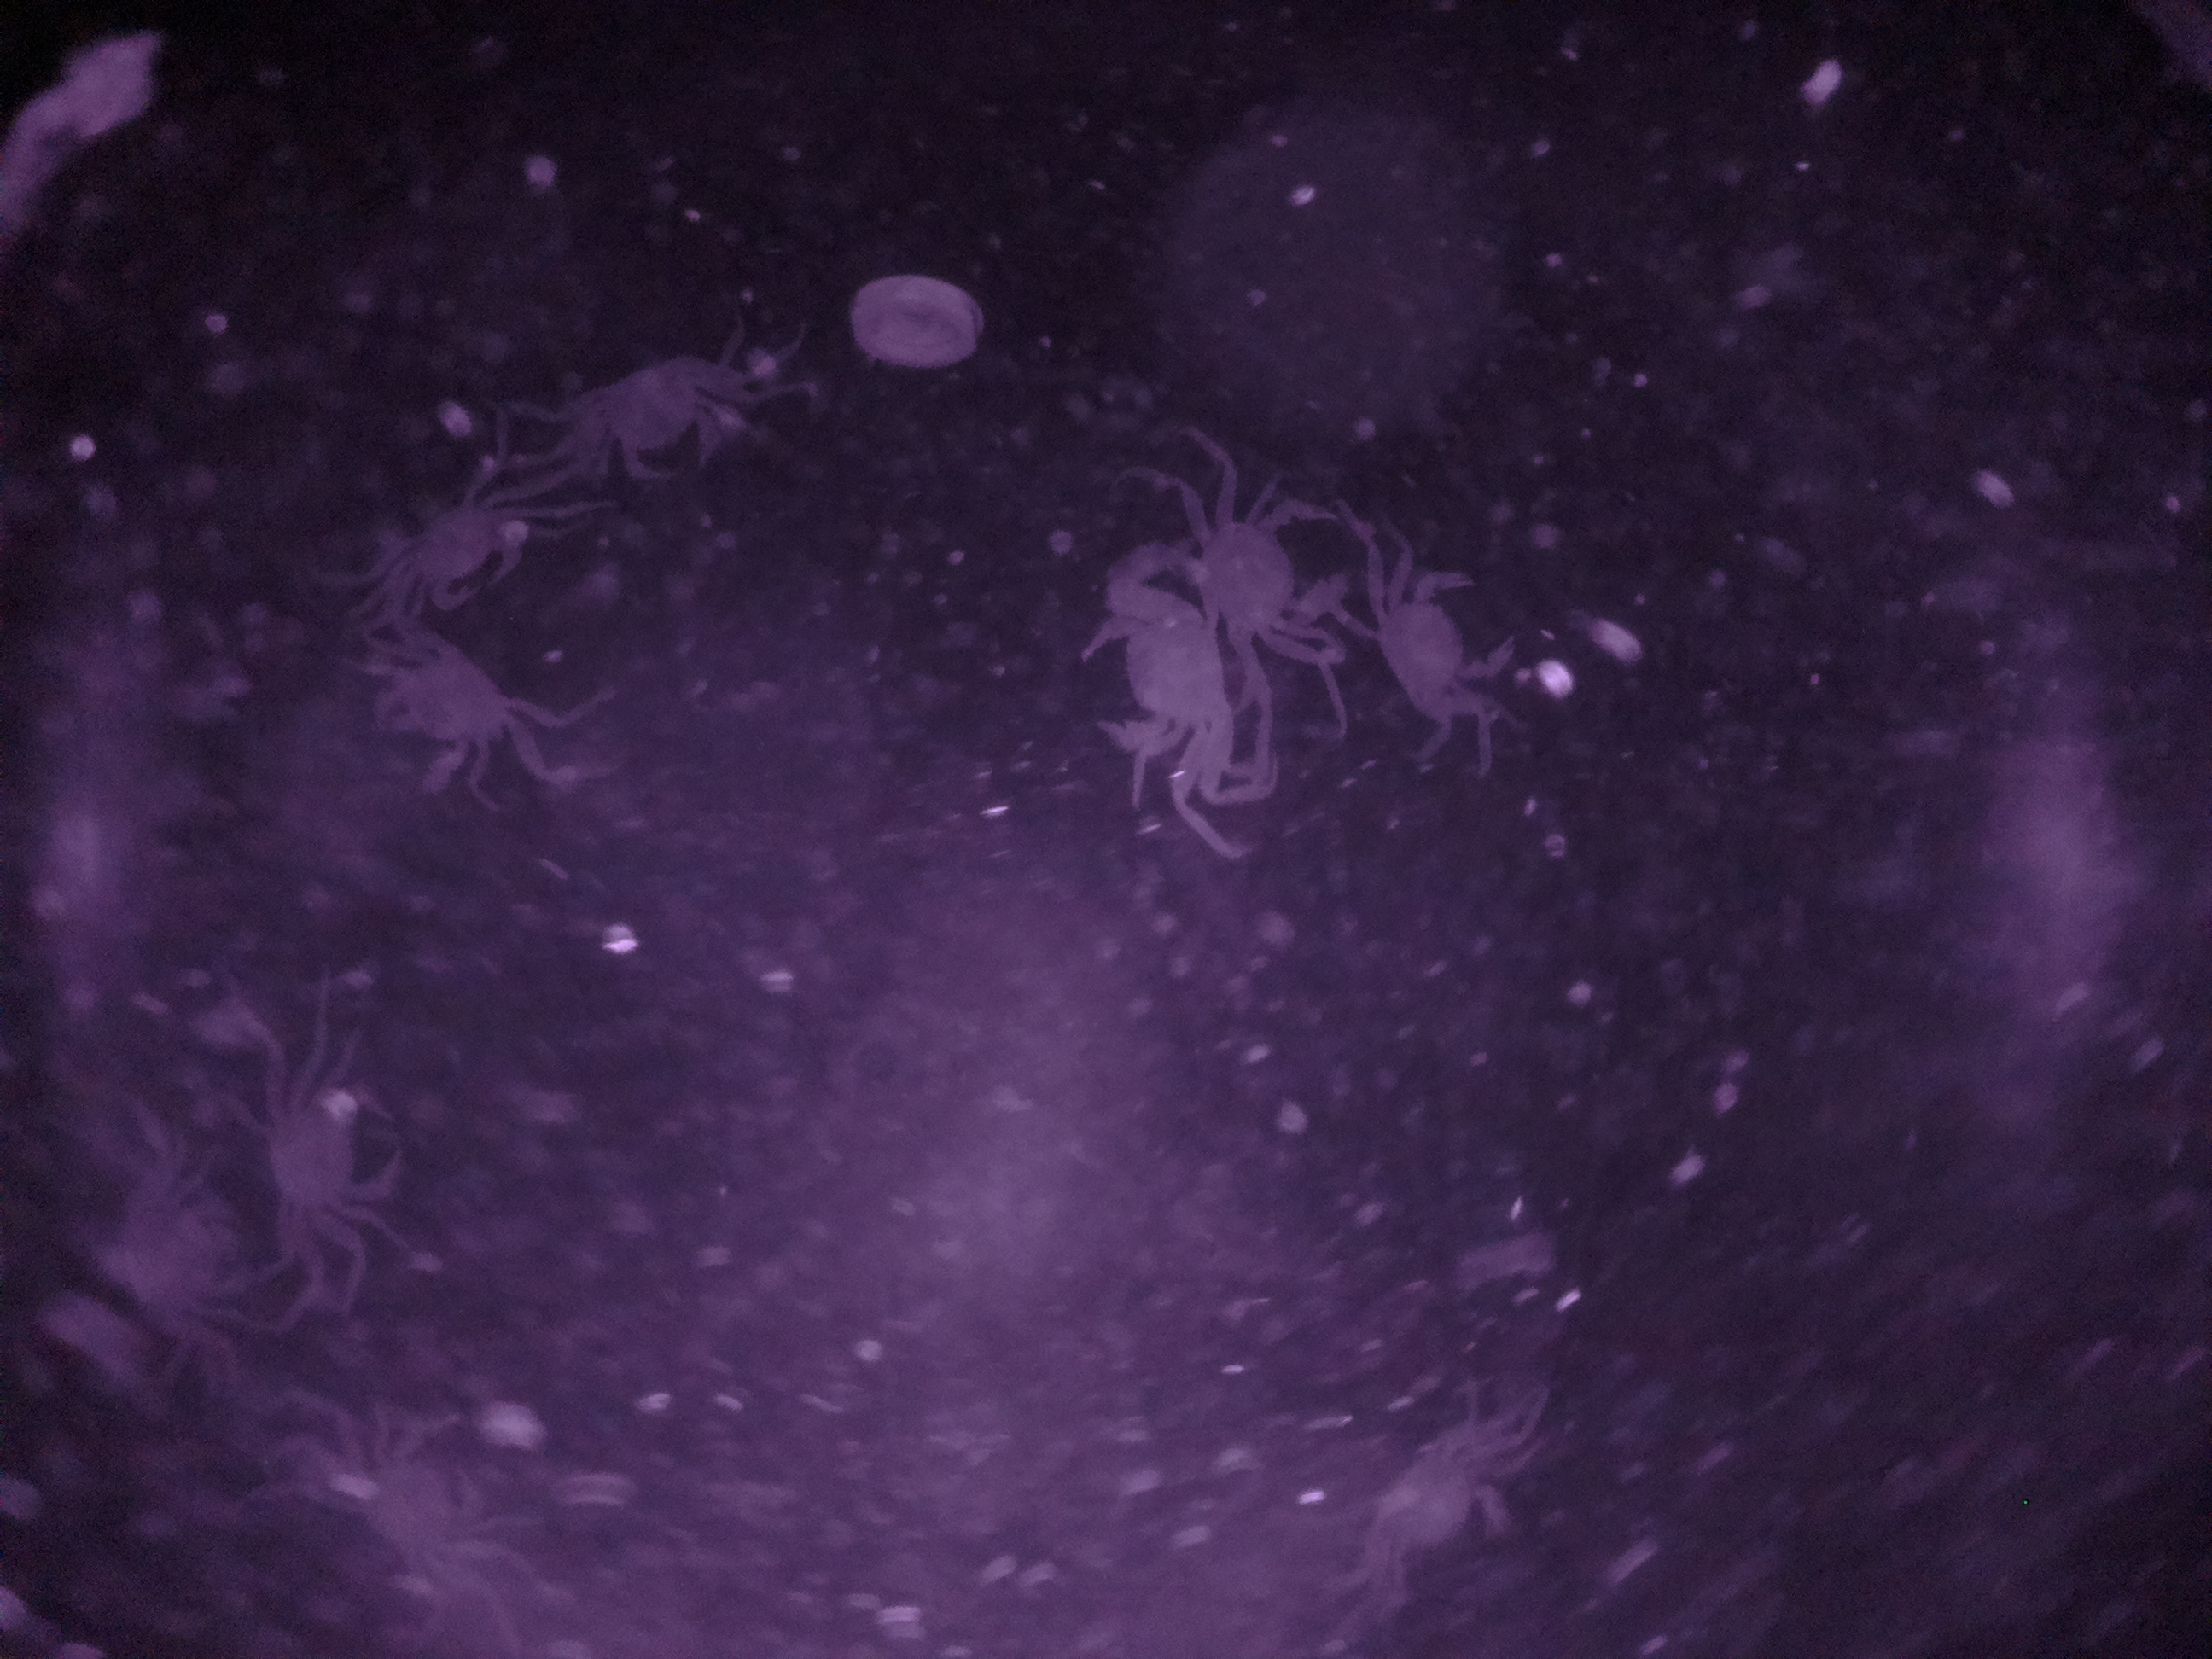Crab: (244, 1046, 437, 1262), (543, 329, 761, 514), (1069, 559, 1238, 788), (1350, 540, 1526, 744), (378, 462, 550, 650)
